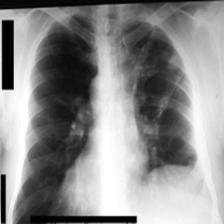tuberculosis: (13, 9, 210, 224)
